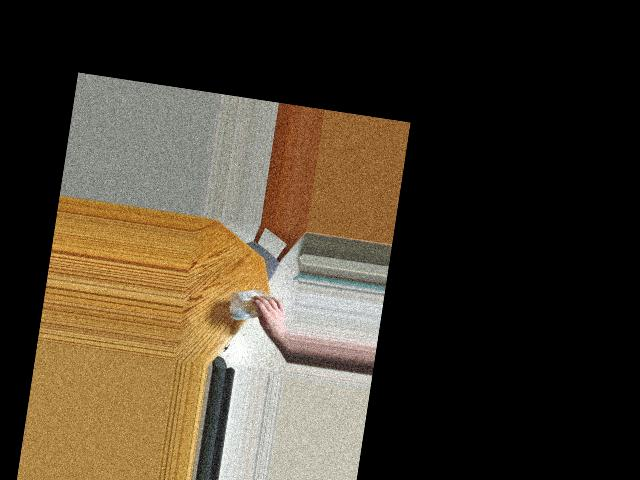cheese: (240, 288, 281, 327)
